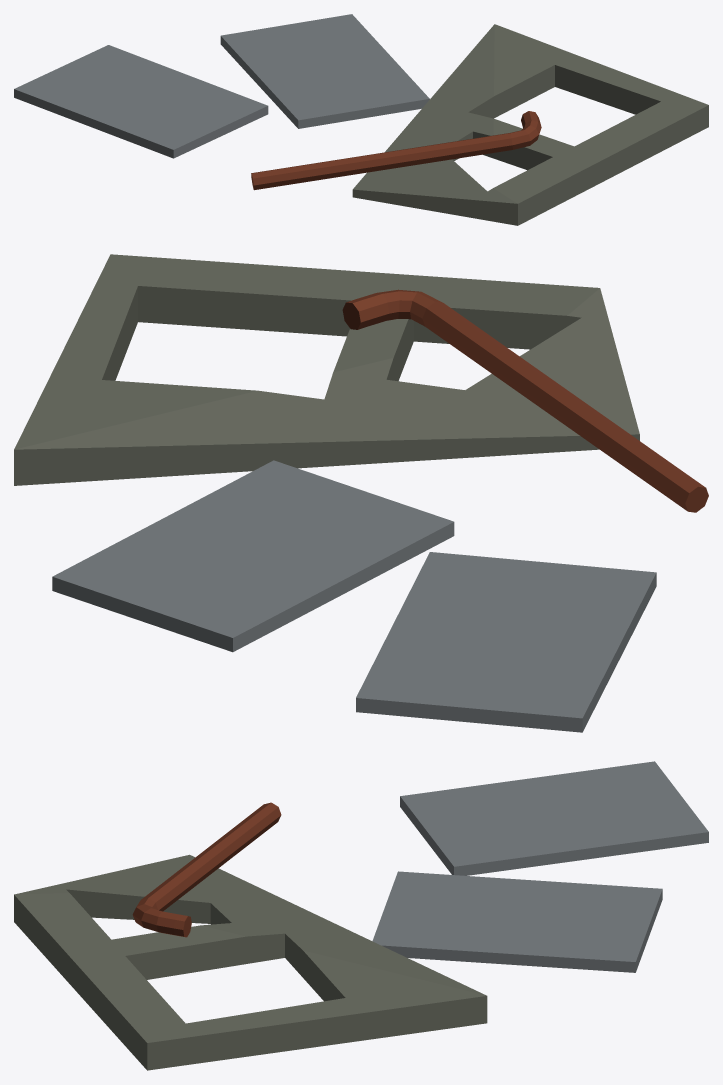
Rendered from MetalScrapV1.gltf.
3 renders of one model, top to bottom at view 1: azimuth 30°, elevation 25°; view 2: azimuth 150°, elevation 25°; view 3: azimuth 270°, elevation 25°, orthographic. The views are drawn at different scales.
Parts seen in each view (by area): view 1: MetalSrapV1; view 2: MetalSrapV1; view 3: MetalSrapV1.
Boxes of the visible parts, bbox=[...] form: MetalSrapV1: bbox=[14, 14, 708, 225]; MetalSrapV1: bbox=[14, 254, 708, 732]; MetalSrapV1: bbox=[14, 761, 708, 1070].
Bounding box in the file's own units: 1.07 × 0.092 × 1.05.
